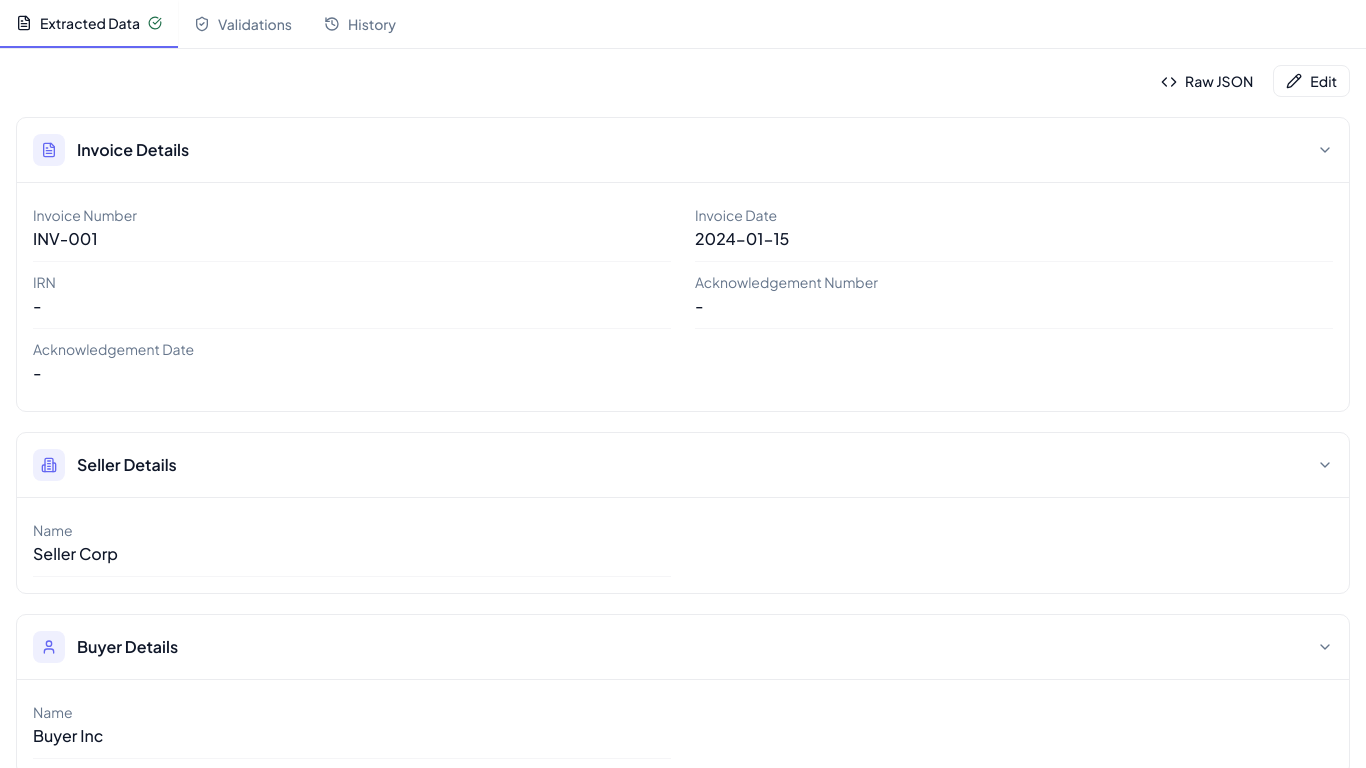
Test: DocumentTabs › unsaved changes guard › discards changes when Discard is clicked in discard dialog
Click the button "Edit": (1312, 81) [1273,65,1350,97]
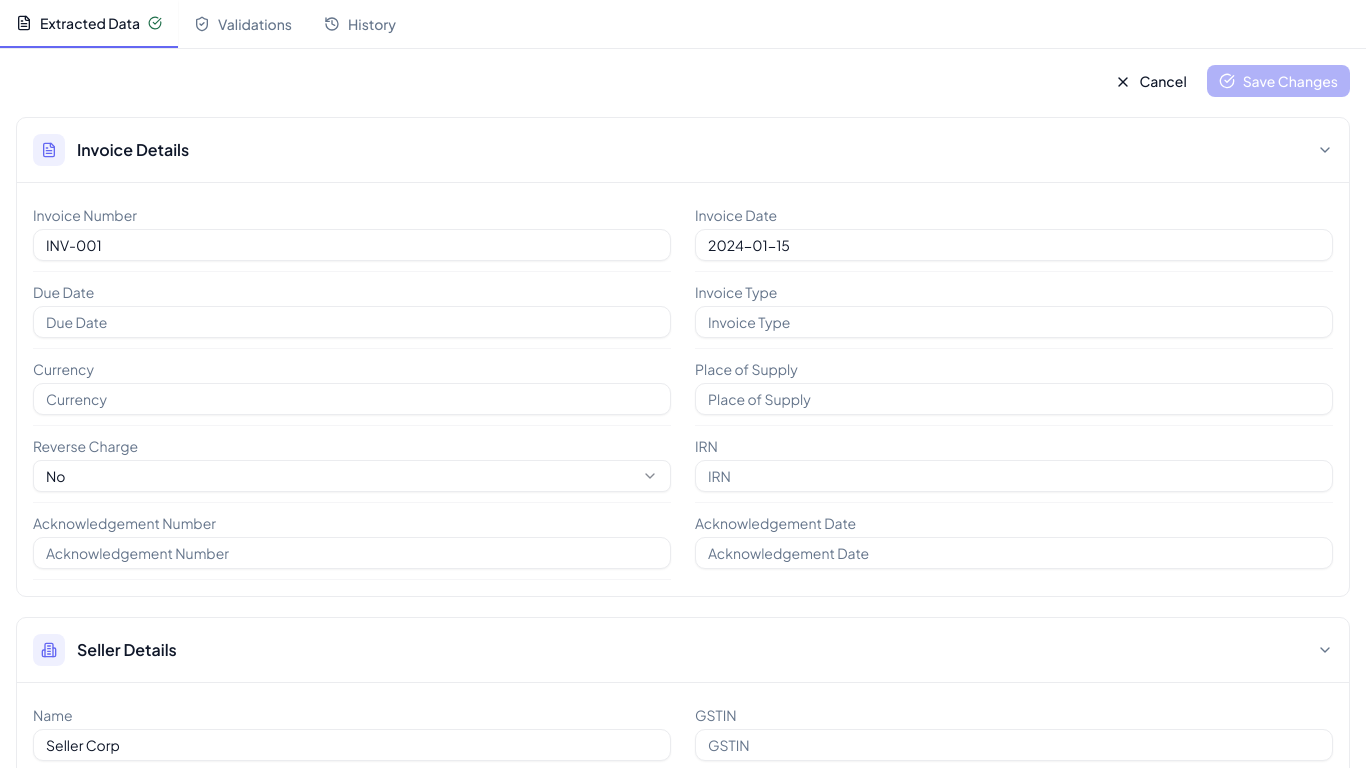
Replace the text in the field with placeholder "Invoice Number" below "Invoice Number" with "CHANGED": (352, 245) [33,229,671,261]
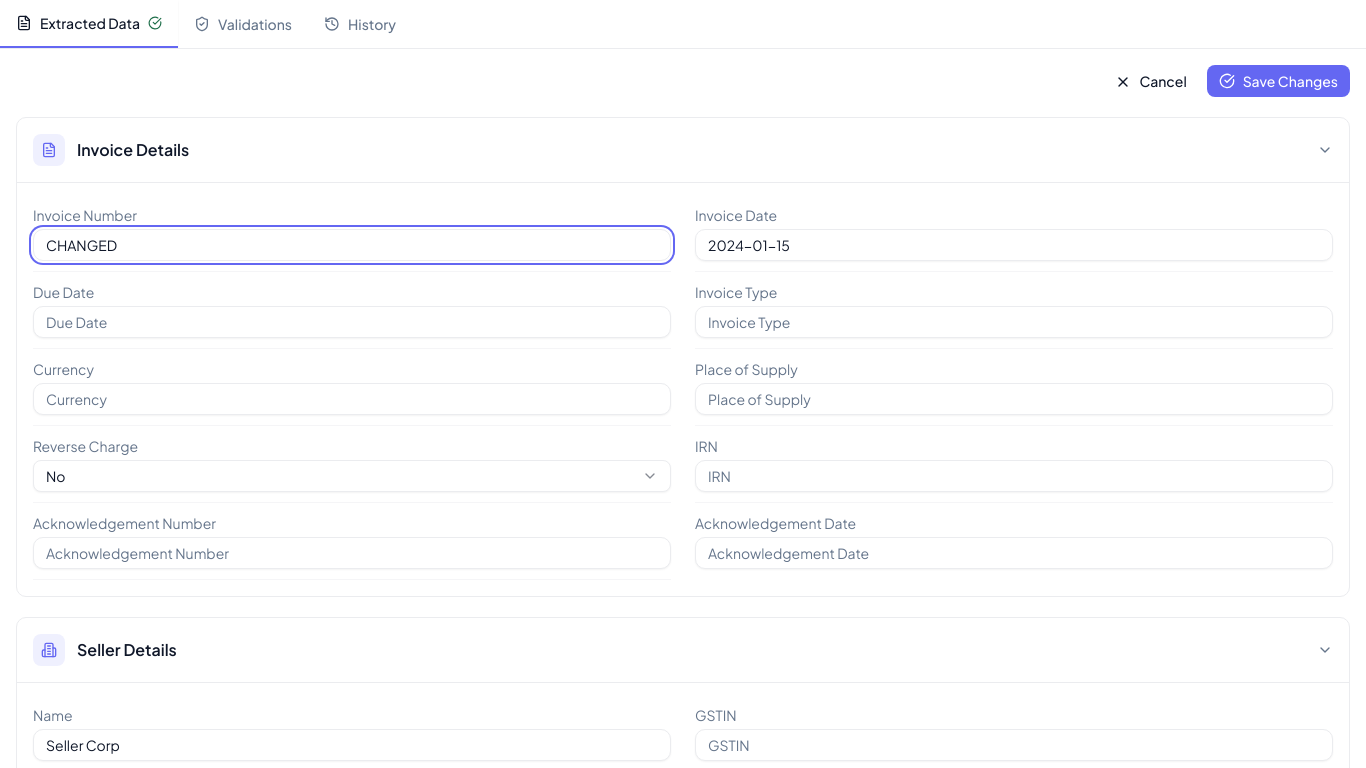
Click the button "Cancel": (1151, 81) [1103,65,1199,97]
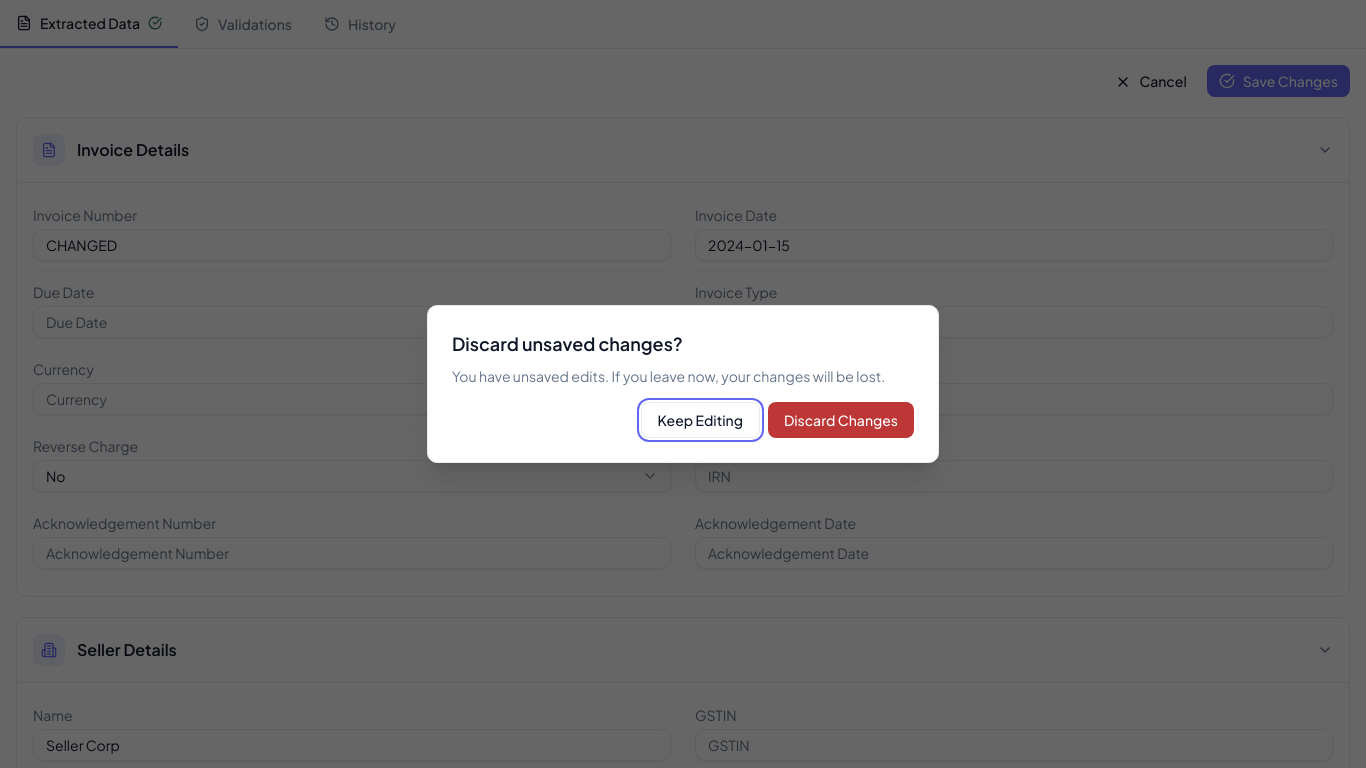
Click Discard Changes
Click the button "Discard Changes": (841, 420) [768,402,914,438]
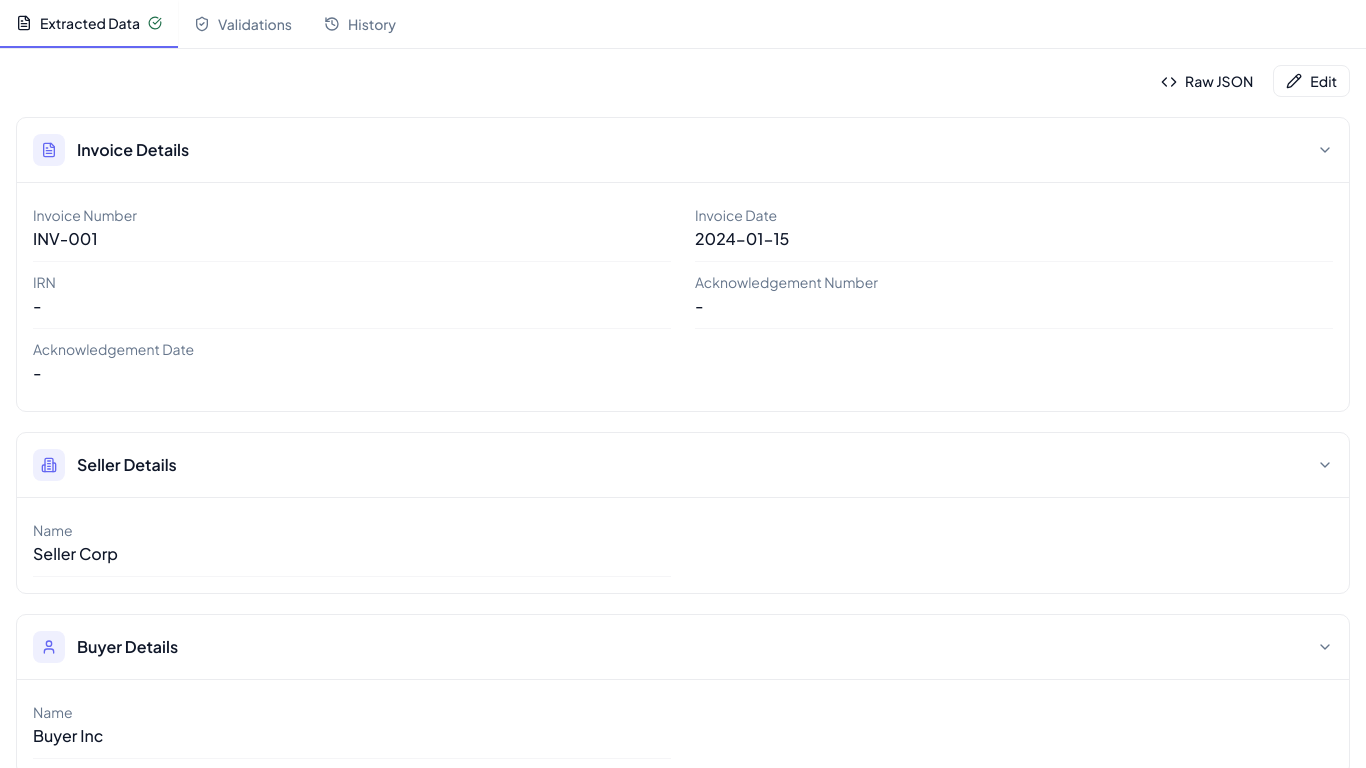
Expected: the button "Edit" is shown, [1273,65,1350,97]
